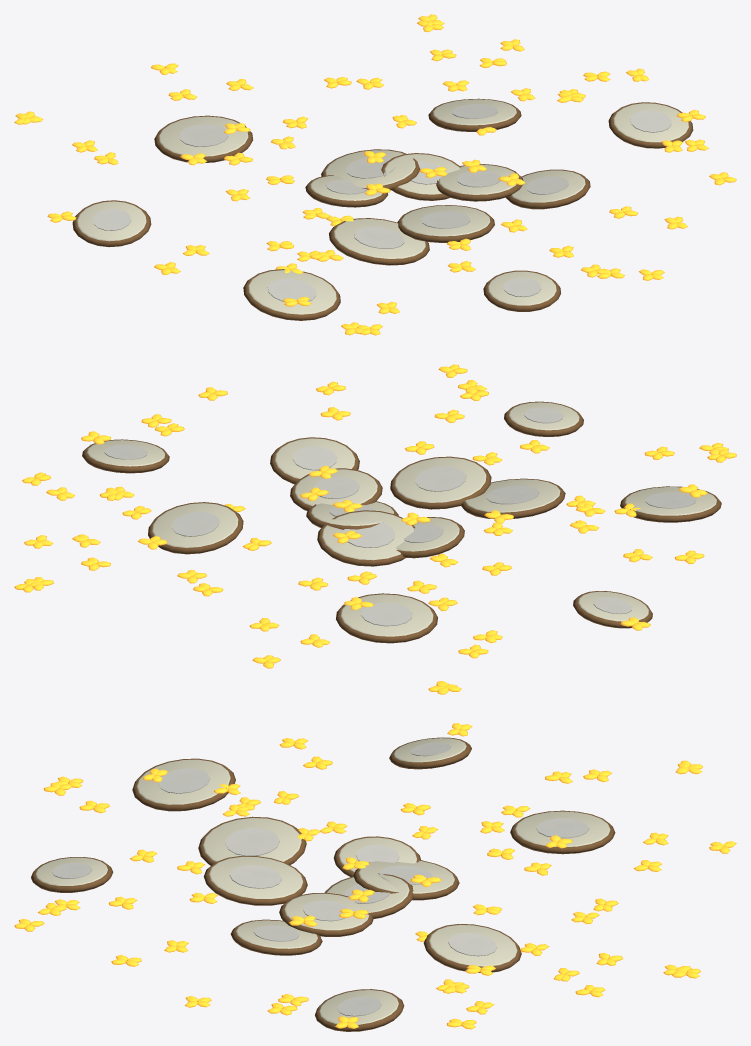
File: FOOD_Season_Yam.glb
3 renders of one model, top to bottom at view 1: azimuth 30°, elevation 25°; view 2: azimuth 150°, elevation 25°; view 3: azimuth 270°, elevation 25°, orthographic. The views are drawn at different scales.
Visible parts, largest first — view 1: FOOD_Season_Yam; view 2: FOOD_Season_Yam; view 3: FOOD_Season_Yam.
Part boxes in pixels (x1,y1,x2,y2): FOOD_Season_Yam: [14, 14, 736, 335]; FOOD_Season_Yam: [14, 364, 736, 694]; FOOD_Season_Yam: [14, 723, 736, 1031].
Size of the model in its own units: 0.58 by 0.016 by 0.58.
Materials: 4 (4 with a texture image).
